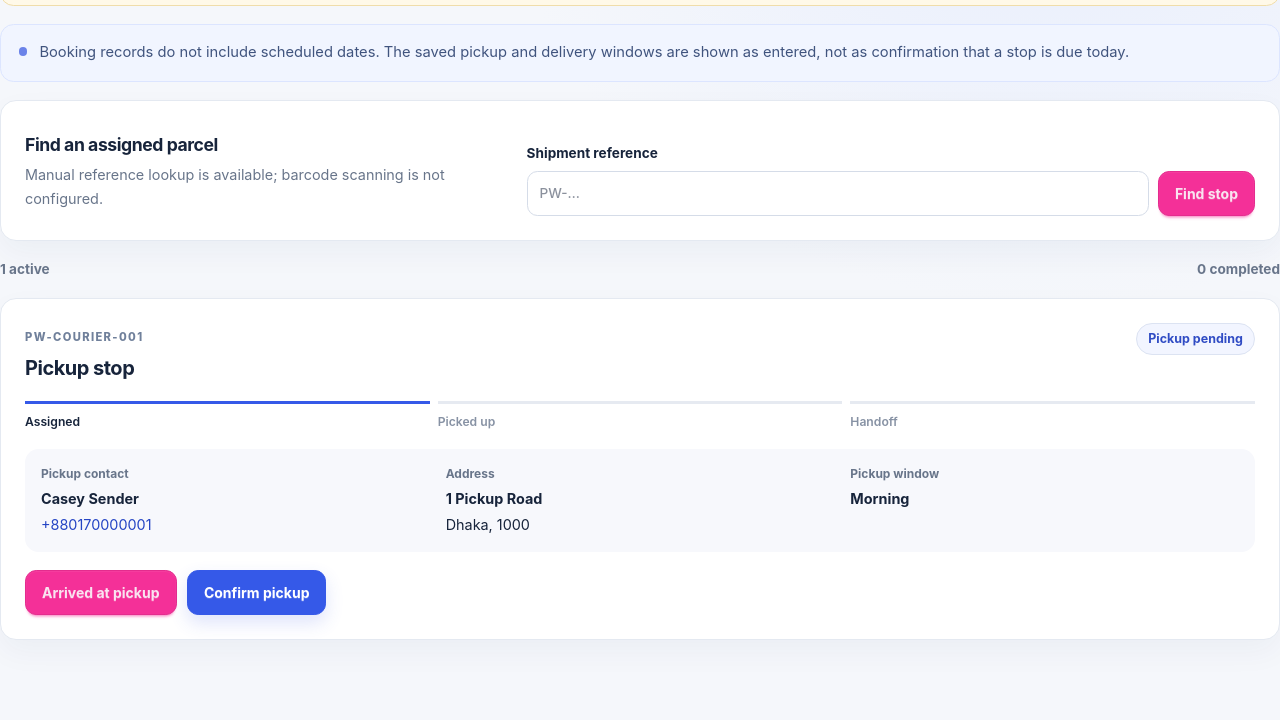
Test case: courier workspace › keeps the stop incomplete and reports a network failure instead of claiming success
The image size is (1280, 720).
(page scrolled)
Click the button "Arrived at pickup": (101, 592) [25,570,176,615]
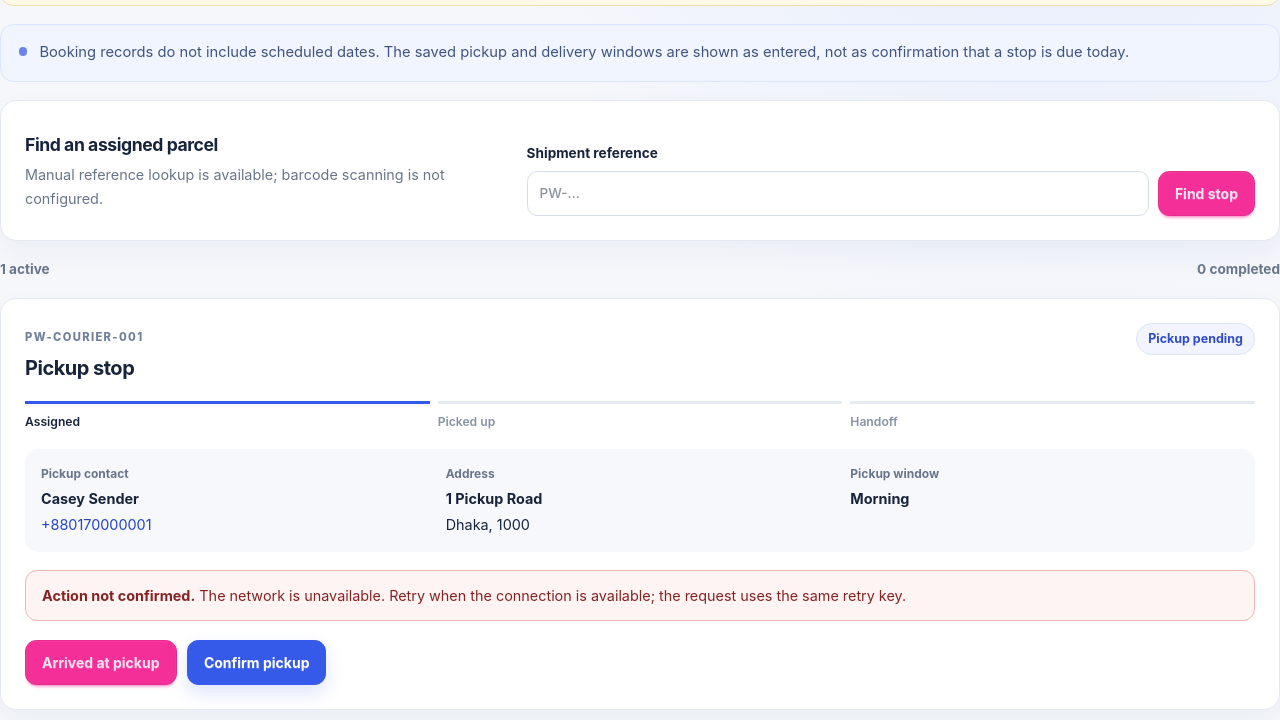
Expected: the button "Confirm pickup" is shown, [187,640,326,685]
Result: the text "Action not confirmed." is shown at [42,586,195,604]
